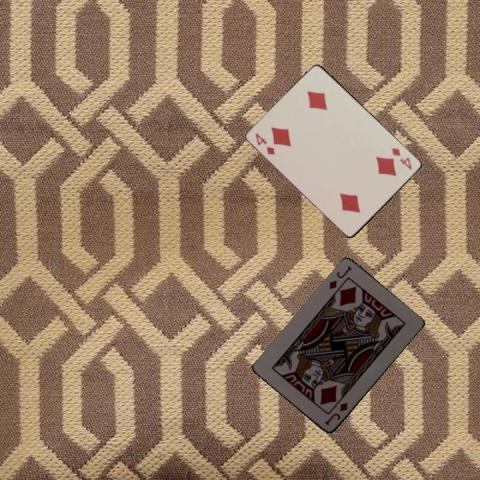4d: (252, 130, 277, 157), (389, 145, 413, 171)
Jd: (322, 400, 350, 428), (326, 264, 353, 292)
